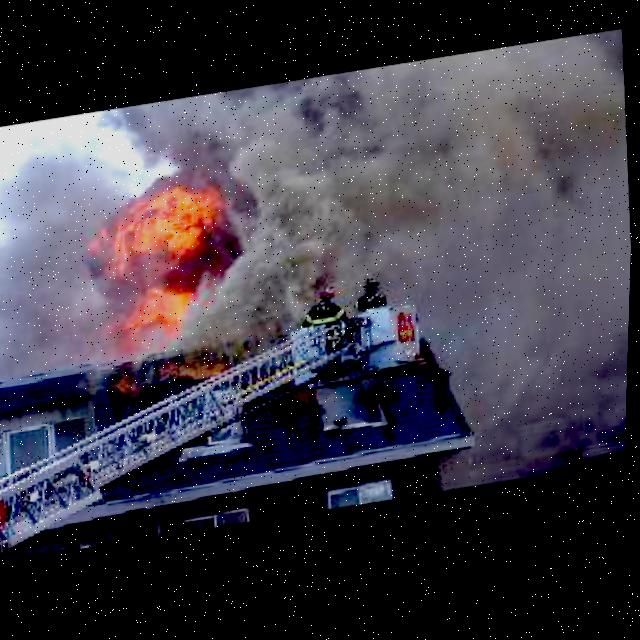Fire: (90, 169, 234, 354)
Smoke: (197, 37, 638, 406), (0, 137, 136, 390)
